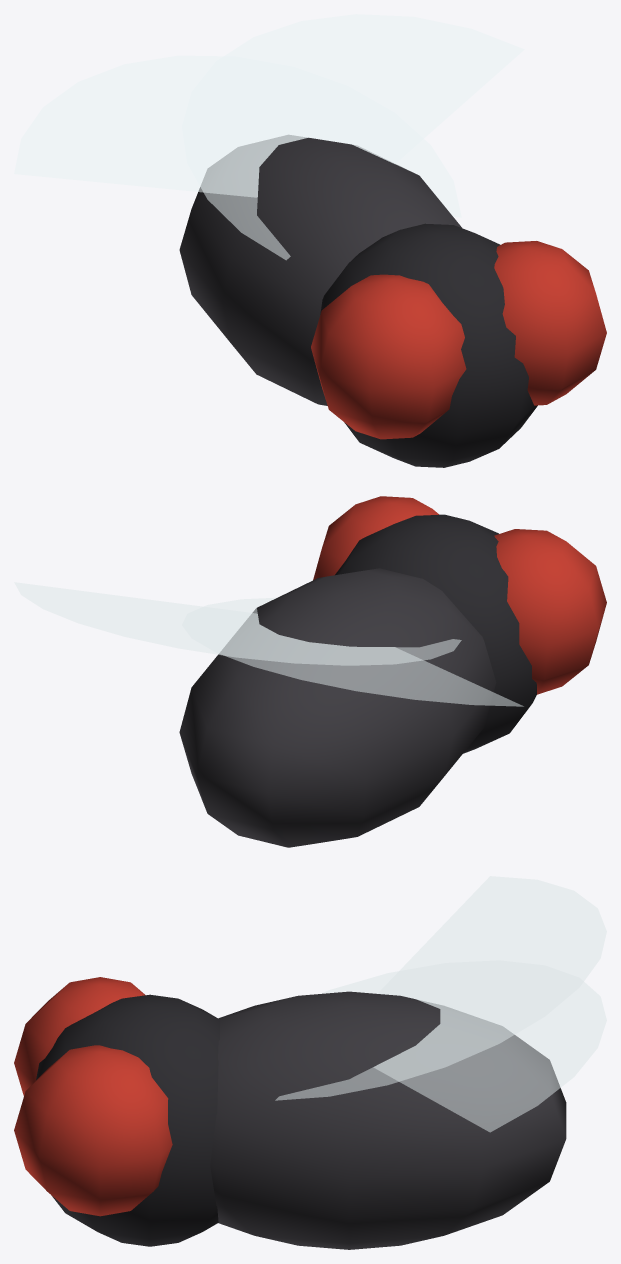
File: mosca.glb
The picture shows the model from 3 angles, top to bottom: view 1: azimuth 30°, elevation 25°; view 2: azimuth 150°, elevation 25°; view 3: azimuth 270°, elevation 25°; orthographic projection. The views are drawn at different scales.
Parts seen in each view (by area): view 1: ala1, ala0, cuerpo, cabeza, ojoRojo0, ojoRojo1; view 2: cuerpo, cabeza, ala1, ala0, ojoRojo0, ojoRojo1; view 3: cuerpo, ala0, ala1, ojoRojo1, cabeza, ojoRojo0.
Part boxes in pixels (<box>): ala1: <box>182,14,524,260</box>; ala0: <box>14,55,461,217</box>; cuerpo: <box>179,135,461,405</box>; cabeza: <box>320,223,537,467</box>; ojoRojo0: <box>311,274,466,439</box>; ojoRojo1: <box>494,241,606,405</box>; cuerpo: <box>179,568,496,847</box>; cabeza: <box>335,514,536,753</box>; ala1: <box>14,582,461,665</box>; ala0: <box>182,597,523,706</box>; ojoRojo0: <box>494,529,606,694</box>; ojoRojo1: <box>313,496,438,580</box>; cuerpo: <box>210,991,566,1249</box>; ala0: <box>275,876,606,1100</box>; ala1: <box>321,960,606,1132</box>; ojoRojo1: <box>14,1045,172,1216</box>; cabeza: <box>36,994,219,1246</box>; ojoRojo0: <box>14,977,145,1095</box>.
Size of the model in its own units: 0.1829 by 0.0866 by 0.1786.
